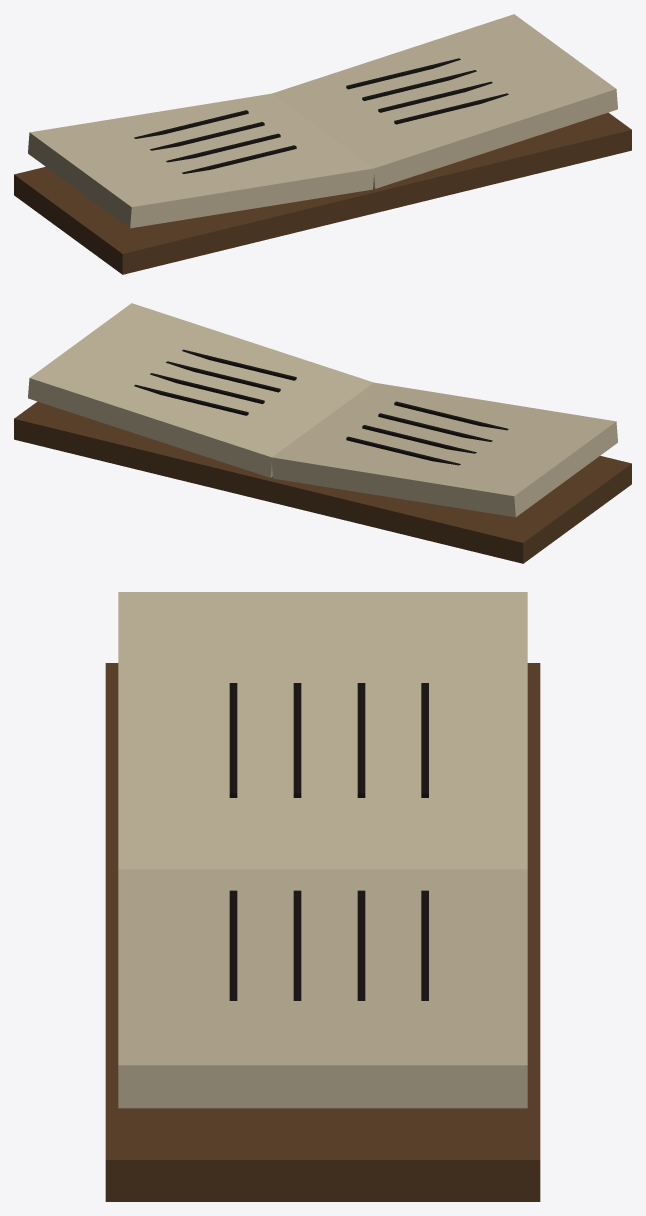
Rendered from open_book.glb.
3 renders of one model, top to bottom at view 1: azimuth 30°, elevation 25°; view 2: azimuth 150°, elevation 25°; view 3: azimuth 270°, elevation 25°, orthographic. The views are drawn at different scales.
Visible parts, largest first — view 1: paper__right_page, paper__left_page, wood__cover, _MeshInstance3D_173, _MeshInstance3D_175, dark__ink_right, _MeshInstance3D_171, dark__ink_left, _MeshInstance3D_170, _MeshInstance3D_172, _MeshInstance3D_174; view 2: paper__right_page, paper__left_page, wood__cover, dark__ink_right, _MeshInstance3D_171, _MeshInstance3D_175, _MeshInstance3D_173, dark__ink_left, _MeshInstance3D_174, _MeshInstance3D_170, _MeshInstance3D_172; view 3: paper__left_page, paper__right_page, wood__cover, _MeshInstance3D_170, _MeshInstance3D_172, _MeshInstance3D_174, _MeshInstance3D_171, _MeshInstance3D_173, _MeshInstance3D_175, dark__ink_left, dark__ink_right.
Part boxes in pixels (x1,y1,x2,y2): paper__right_page: (272, 14, 617, 188); paper__left_page: (28, 93, 373, 228); wood__cover: (14, 112, 631, 274); _MeshInstance3D_173: (378, 81, 492, 112); _MeshInstance3D_175: (394, 93, 508, 124); dark__ink_right: (346, 58, 460, 89); _MeshInstance3D_171: (362, 70, 476, 100); dark__ink_left: (134, 110, 248, 138); _MeshInstance3D_170: (150, 122, 264, 150); _MeshInstance3D_172: (166, 133, 280, 162); _MeshInstance3D_174: (182, 145, 296, 173); paper__right_page: (28, 303, 373, 477); paper__left_page: (272, 382, 617, 517); wood__cover: (14, 401, 631, 563); dark__ink_right: (134, 384, 248, 415); _MeshInstance3D_171: (150, 373, 264, 403); _MeshInstance3D_175: (182, 349, 296, 380); _MeshInstance3D_173: (166, 361, 280, 392); dark__ink_left: (346, 436, 460, 465); _MeshInstance3D_174: (394, 401, 508, 430); _MeshInstance3D_170: (362, 425, 476, 453); _MeshInstance3D_172: (378, 413, 492, 441); paper__left_page: (118, 592, 527, 869); paper__right_page: (118, 869, 527, 1108); wood__cover: (105, 663, 540, 1201); _MeshInstance3D_170: (357, 683, 365, 797); _MeshInstance3D_172: (293, 683, 301, 797); _MeshInstance3D_174: (229, 683, 237, 797); _MeshInstance3D_171: (357, 890, 365, 1000); _MeshInstance3D_173: (293, 890, 301, 1000); _MeshInstance3D_175: (229, 890, 237, 1000); dark__ink_left: (421, 683, 428, 797); dark__ink_right: (421, 890, 428, 1000).
Bounding box in the file's own units: 0.46 × 0.0538 × 0.17.
